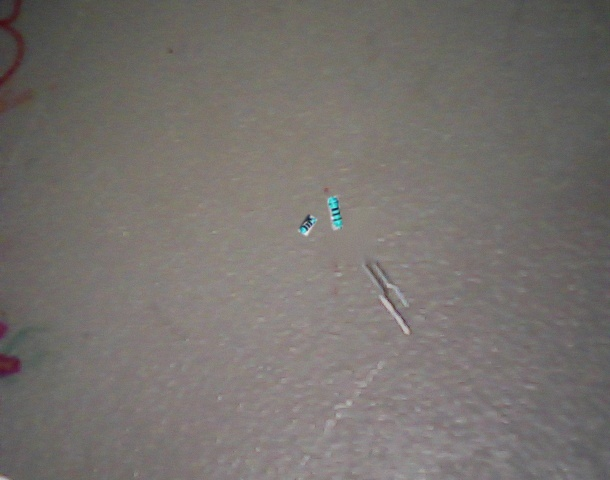resistor: (327, 196, 343, 230), (298, 214, 317, 236)
